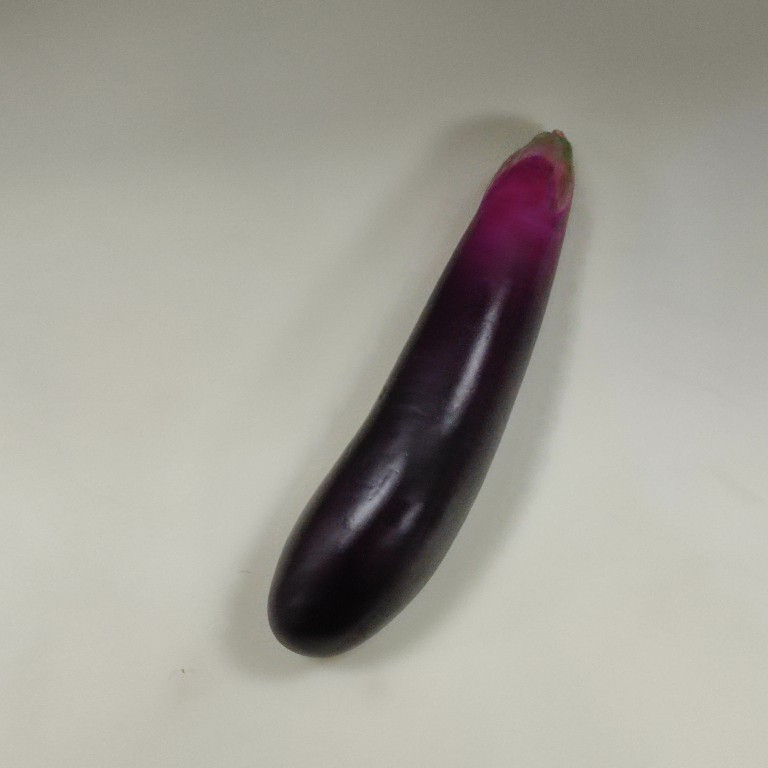fruit_eggplant: (260, 122, 580, 661)
